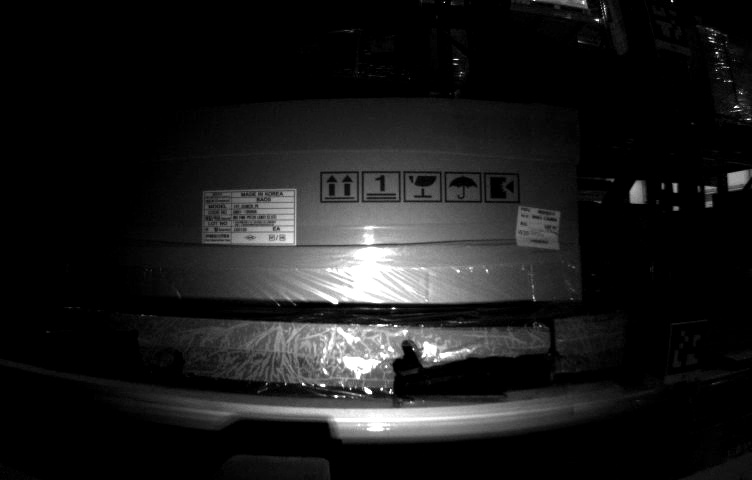True Barcode: (517, 204, 563, 252)
